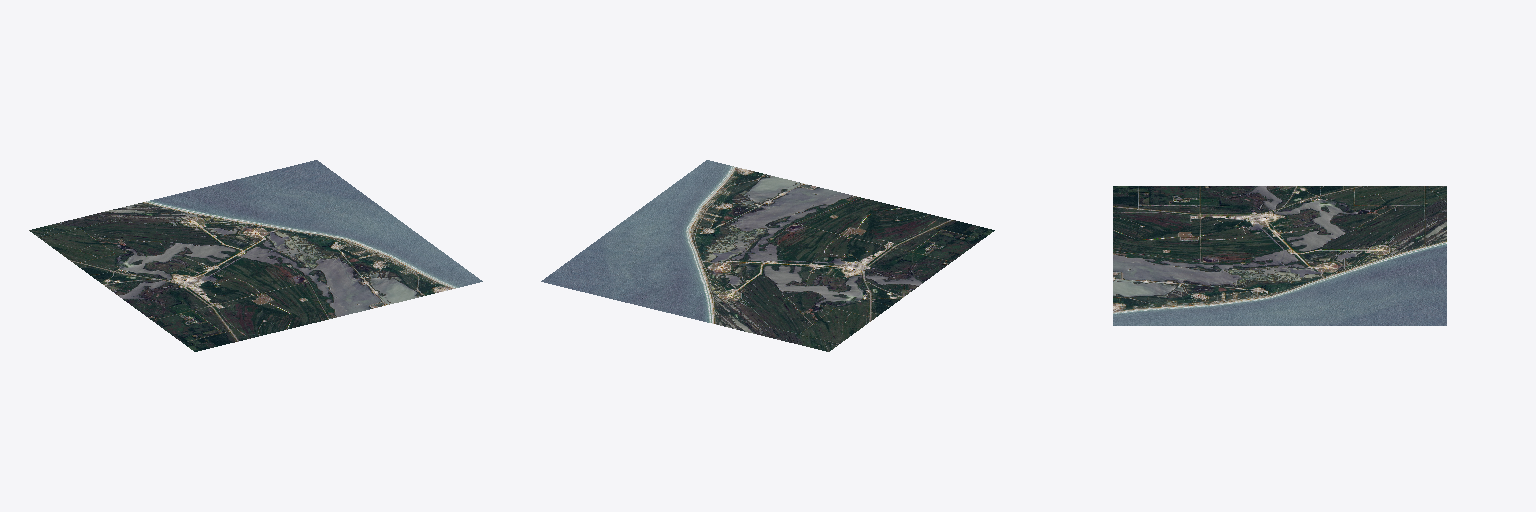
The picture shows the model from 3 angles: view 1: azimuth 30°, elevation 25°; view 2: azimuth 150°, elevation 25°; view 3: azimuth 270°, elevation 25°; orthographic projection.
Visible parts, largest first — view 1: Plane; view 2: Plane; view 3: Plane.
Boxes of the visible parts, <box> form: Plane: <box>29,160,482,351</box>; Plane: <box>541,160,994,351</box>; Plane: <box>1113,186,1446,325</box>.
Size of the model in its own units: 100 by 0 by 100.
1 materials, 1 textured.